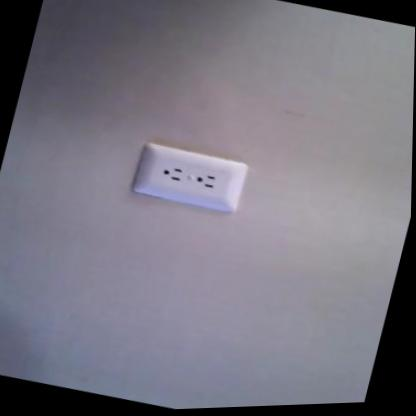OUTLET: (130, 138, 249, 218)
